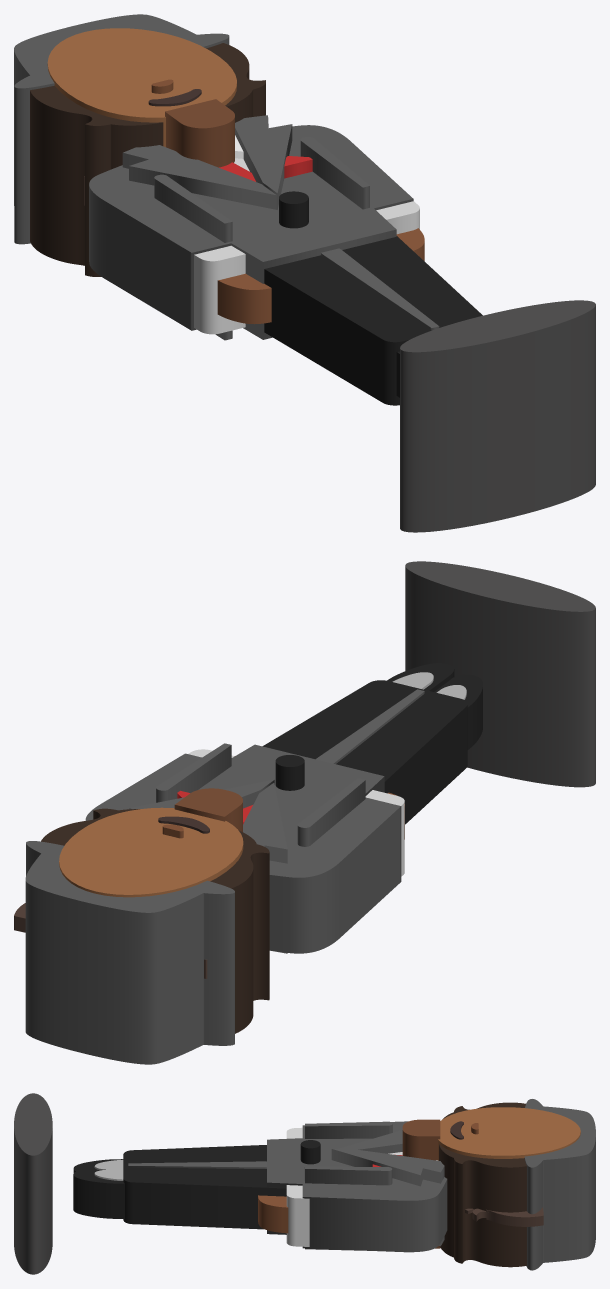
File: emoji_u1f574_1f3fe.glb
3 views of the same model, one above another, from view 1: azimuth 30°, elevation 25°; view 2: azimuth 150°, elevation 25°; view 3: azimuth 270°, elevation 25° (orthographic). The views are drawn at different scales.
Parts seen in each view (by area): view 1: emoji_u1f574_1f3fe; view 2: emoji_u1f574_1f3fe; view 3: emoji_u1f574_1f3fe.
Boxes of the visible parts, <box> form: emoji_u1f574_1f3fe: <box>14,14,595,532</box>; emoji_u1f574_1f3fe: <box>14,561,595,1064</box>; emoji_u1f574_1f3fe: <box>14,1093,595,1274</box>.
Bounding box in the file's own units: 0.0106 × 0.0074 × 0.0328.
